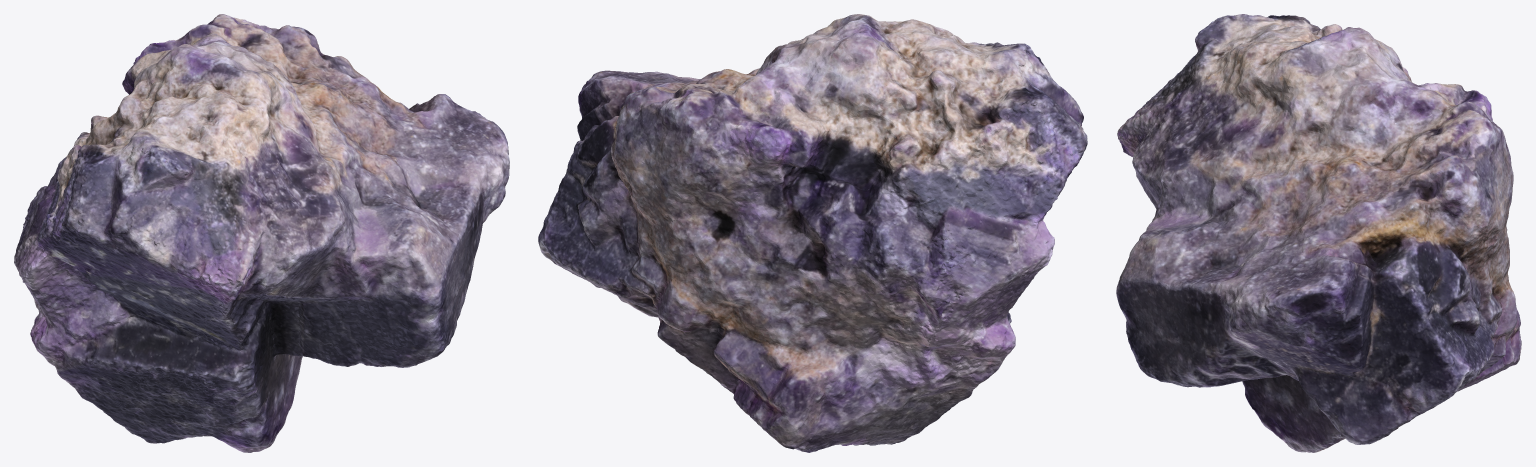
The model's file is mineral_fluorite.obj.
3 renders of one model, left to right at view 1: azimuth 30°, elevation 25°; view 2: azimuth 150°, elevation 25°; view 3: azimuth 270°, elevation 25°, orthographic. The views are drawn at different scales.
Visible parts, largest first — view 1: Object_1, Object_0; view 2: Object_0, Object_1; view 3: Object_0, Object_1.
Part boxes in pixels (left/top/right/bottom): Object_1: left=14, top=18, right=452, bottom=452; Object_0: left=55, top=14, right=509, bottom=414; Object_0: left=538, top=14, right=1083, bottom=452; Object_1: left=626, top=15, right=1087, bottom=452; Object_0: left=1116, top=14, right=1521, bottom=444; Object_1: left=1116, top=14, right=1520, bottom=452.
Bounding box in the file's own units: 1.69 × 1.37 × 1.28.
